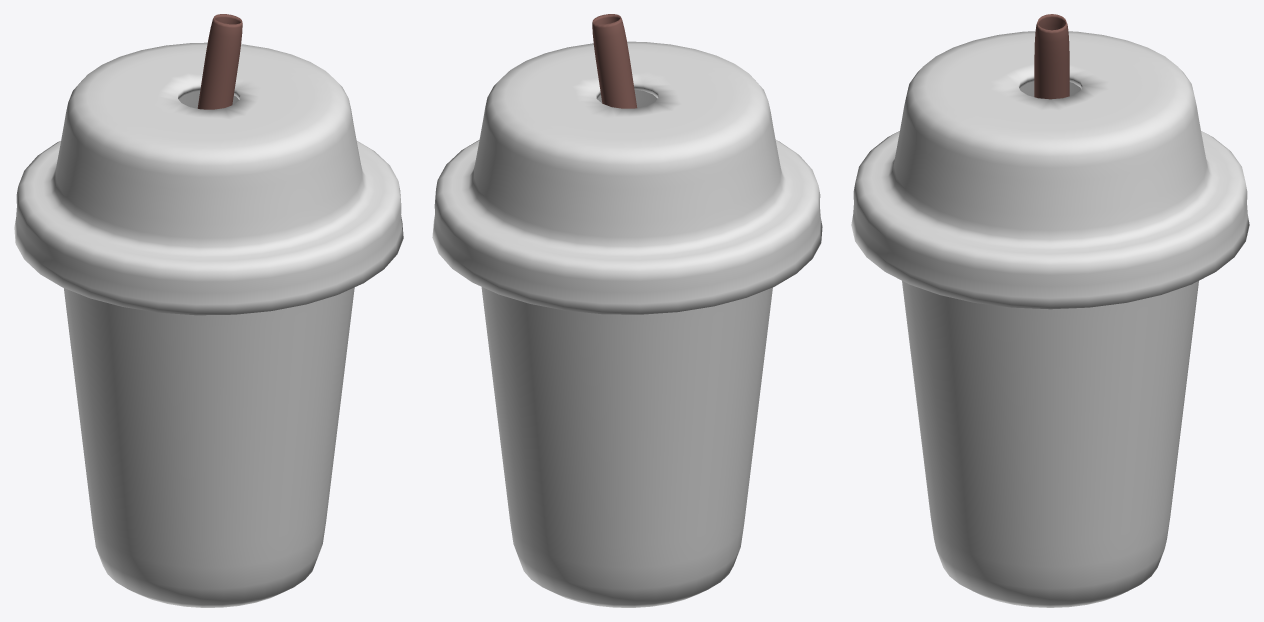
File: star2.fbx
3 views of the same model, side by side, from view 1: azimuth 30°, elevation 25°; view 2: azimuth 150°, elevation 25°; view 3: azimuth 270°, elevation 25° (orthographic). The views are drawn at different scales.
Visible parts, largest first — view 1: Lid, Cup, Tube; view 2: Lid, Cup, Tube; view 3: Lid, Cup, Tube.
Part boxes in pixels (x1,y1,x2,y2): Lid: (14, 42, 403, 315); Cup: (64, 287, 354, 607); Tube: (197, 14, 242, 109); Lid: (432, 41, 822, 314); Cup: (481, 287, 772, 607); Tube: (592, 14, 637, 108); Lid: (851, 31, 1249, 309); Cup: (902, 281, 1198, 607); Tube: (1034, 14, 1069, 99).
Bounding box in the file's own units: 255 × 394 × 255.
